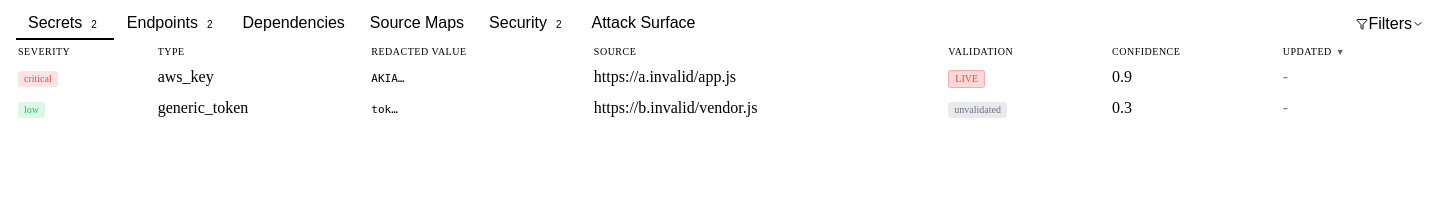
Test case: JS Recon column filters › a tab that stacks several row shapes offers no column filter
Expected: the button "Filters" is shown, [1356,15,1424,33]
Click the button "Security 2" at point(528, 24), box [477,8,578,40]
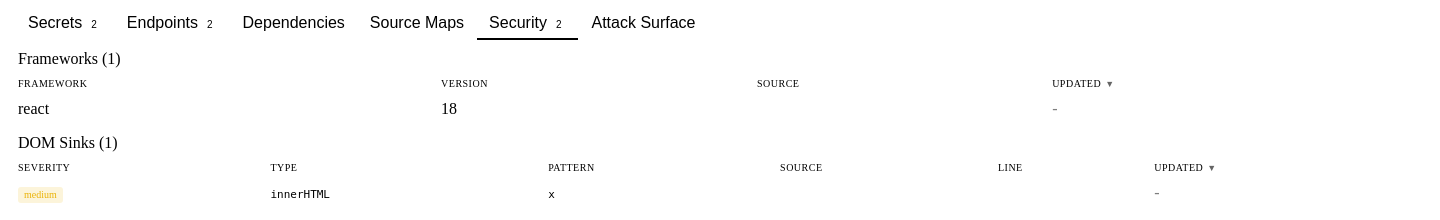
Expected: the button "Filters" is gone
